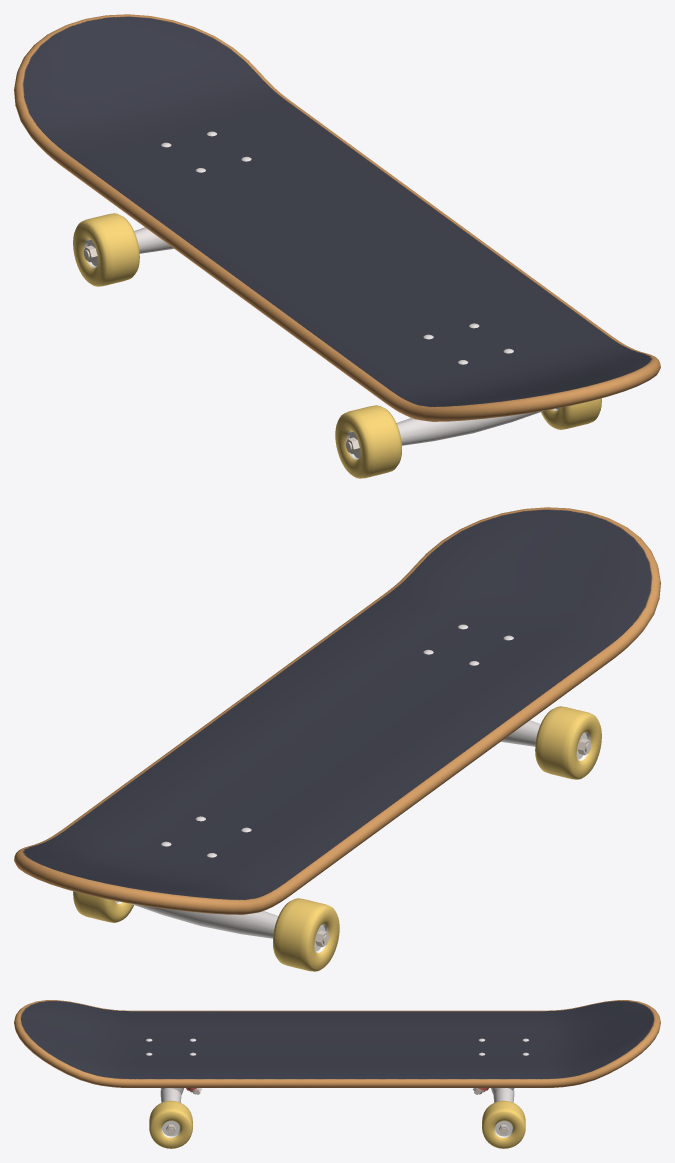
The model's file is skateboard.glb.
3 views of the same model, one above another, from view 1: azimuth 30°, elevation 25°; view 2: azimuth 150°, elevation 25°; view 3: azimuth 270°, elevation 25° (orthographic). The views are drawn at different scales.
Visible parts, largest first — view 1: skateboard_body, skateboard_wheel_rr, skateboard_wheel_fr, skateboard_wheel_fl; view 2: skateboard_body, skateboard_wheel_fr, skateboard_wheel_rr, skateboard_wheel_rl; view 3: skateboard_body, skateboard_wheel_fl, skateboard_wheel_rl.
Part boxes in pixels (x1=…): skateboard_body: x1=14, y1=14, x2=660, y2=453; skateboard_wheel_rr: x1=73, y1=213, x2=139, y2=286; skateboard_wheel_fr: x1=335, y1=405, x2=401, y2=478; skateboard_wheel_fl: x1=541, y1=398, x2=601, y2=429; skateboard_body: x1=14, y1=507, x2=660, y2=946; skateboard_wheel_fr: x1=535, y1=706, x2=601, y2=779; skateboard_wheel_rr: x1=273, y1=898, x2=339, y2=971; skateboard_wheel_rl: x1=73, y1=891, x2=133, y2=922; skateboard_body: x1=14, y1=1000, x2=660, y2=1134; skateboard_wheel_fl: x1=149, y1=1100, x2=192, y2=1148; skateboard_wheel_rl: x1=482, y1=1100, x2=525, y2=1148.
Bounding box in the file's own units: 0.217 × 0.129 × 0.797.
9 materials, 1 textured.
